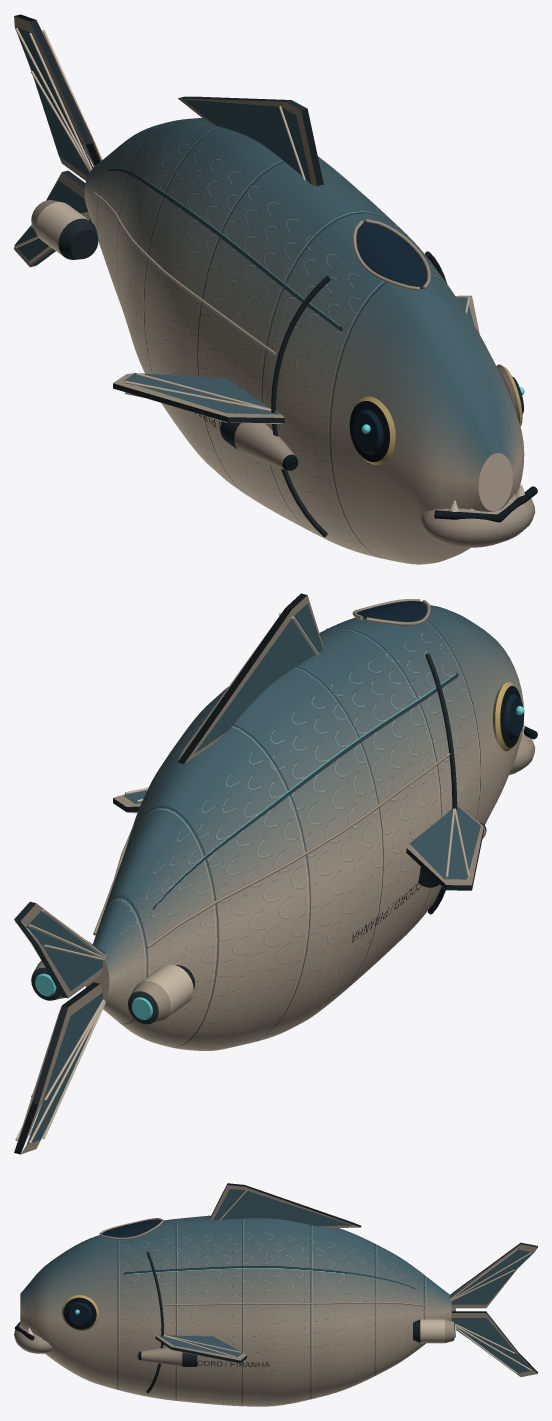
Rendered from piranha.glb.
3 views of the same model, one above another, from view 1: azimuth 30°, elevation 25°; view 2: azimuth 150°, elevation 25°; view 3: azimuth 270°, elevation 25° (orthographic). The views are drawn at different scales.
Visible parts, largest first — view 1: piranha_hull; view 2: piranha_hull; view 3: piranha_hull.
Part boxes in pixels (x1,y1,x2,y2): piranha_hull: (14, 14, 537, 564); piranha_hull: (14, 593, 537, 1154); piranha_hull: (14, 1183, 537, 1406).
Size of the model in its own units: 6.42 by 6.94 by 15.
1 material, 1 textured.
